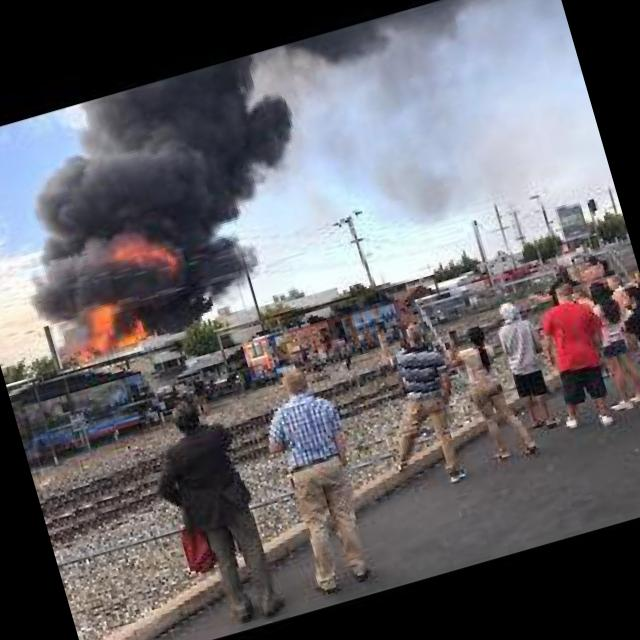fire: (54, 283, 152, 368), (109, 224, 185, 284)
smoke: (0, 40, 332, 271), (170, 201, 283, 324), (10, 244, 123, 328)
